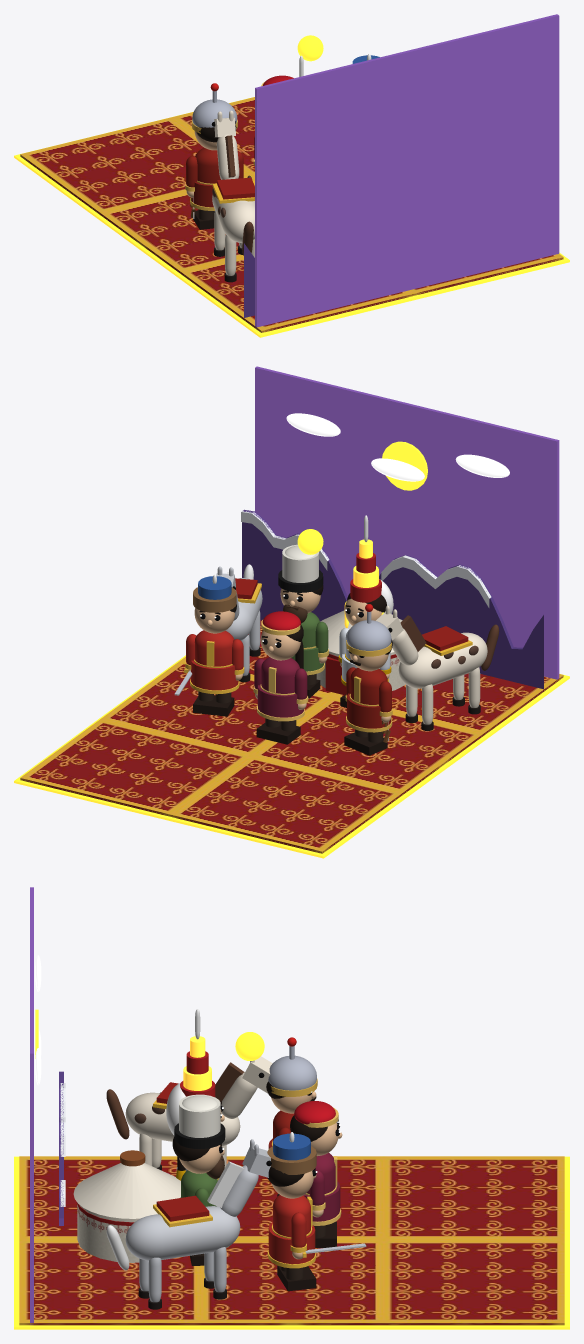
3 views of the same model, one above another, from view 1: azimuth 30°, elevation 25°; view 2: azimuth 150°, elevation 25°; view 3: azimuth 270°, elevation 25° (orthographic). The views are drawn at different scales.
Parts seen in each view (by area): view 1: Аспан, Жер, Жиек, Torso (×2), Helmet, Жота, Saddle, NeckMesh, Алтын тұмар, Skirt, Leg; view 2: Аспан, Жер, Жота, Torso (×5), Жиек, Skirt (×3), Бұлт (×3), Қар, Face (×2), Күн, Helmet, Kalpak (+6 smaller); view 3: Жер, Torso (×5), Жиек, Күмбез, NeckMesh (×2), Кереге, Аспан, Skirt (×2), Helmet, Mane (×2), Kalpak, HeadMesh (×2) (+12 smaller).
Boxes of the visible parts, left/top/right/bottom form: Аспан: left=255, top=14, right=559, bottom=328; Жер: left=20, top=97, right=563, bottom=332; Жиек: left=14, top=98, right=569, bottom=337; Torso (×2): left=195, top=147, right=254, bottom=242; Helmet: left=192, top=99, right=237, bottom=127; Жота: left=244, top=243, right=254, bottom=317; Saddle: left=217, top=177, right=254, bottom=199; NeckMesh: left=216, top=134, right=239, bottom=179; Алтын тұмар: left=297, top=35, right=323, bottom=61; Skirt: left=192, top=182, right=213, bottom=207; Leg: left=225, top=235, right=236, bottom=275; Аспан: left=255, top=366, right=559, bottom=679; Жер: left=20, top=620, right=563, bottom=853; Жота: left=242, top=509, right=543, bottom=689; Torso (×5): left=194, top=578, right=487, bottom=704; Жиек: left=14, top=655, right=569, bottom=858; Skirt (×3): left=191, top=660, right=391, bottom=728; Бұлт (×3): left=286, top=413, right=509, bottom=481; Қар: left=241, top=510, right=491, bottom=607; Face (×2): left=194, top=608, right=300, bottom=660; Күн: left=382, top=441, right=427, bottom=490; Helmet: left=346, top=620, right=391, bottom=650; Kalpak: left=282, top=544, right=318, bottom=582; Жер: left=19, top=1156, right=564, bottom=1325; Torso (×5): left=125, top=1092, right=335, bottom=1260; Жиек: left=14, top=1156, right=569, bottom=1329; Күмбез: left=73, top=1163, right=180, bottom=1218; NeckMesh (×2): left=220, top=1072, right=258, bottom=1216; Кереге: left=77, top=1204, right=139, bottom=1262; Аспан: left=30, top=887, right=33, bottom=1324; Skirt (×2): left=268, top=1181, right=340, bottom=1264; Helmet: left=268, top=1055, right=316, bottom=1090; Mane (×2): left=207, top=1062, right=244, bottom=1207; Kalpak: left=179, top=1094, right=220, bottom=1137; HeadMesh (×2): left=242, top=1056, right=272, bottom=1177.
Size of the model in its own units: 0.9635 by 0.7206 by 1.33.
Materials: 53 (2 with a texture image).
